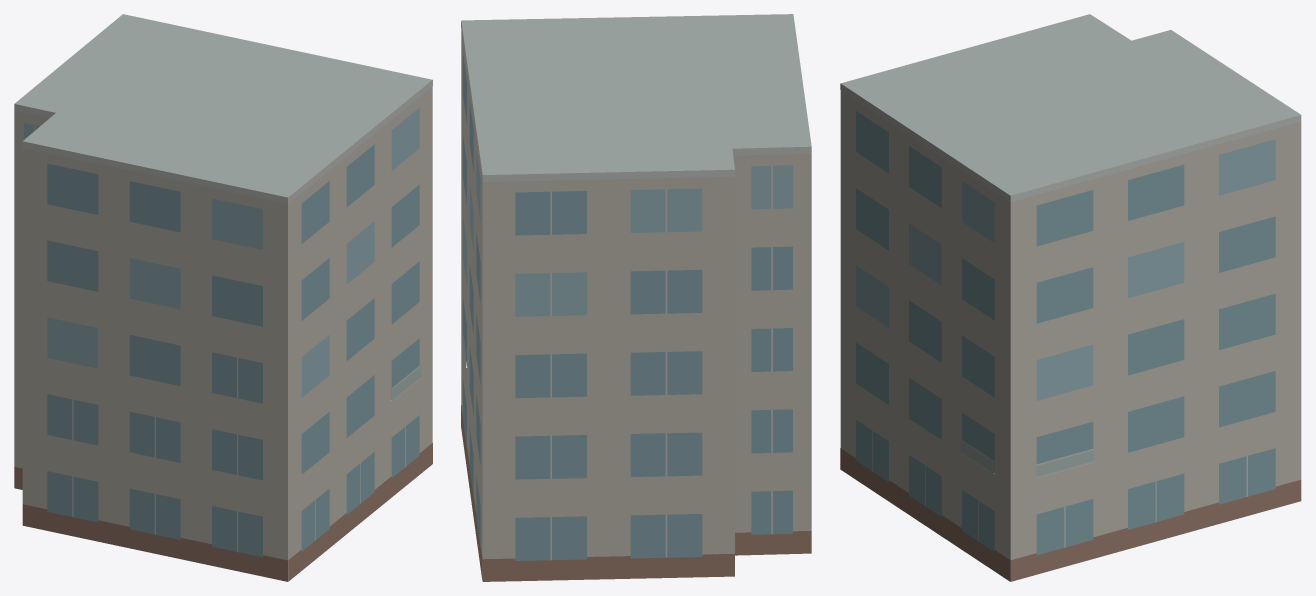
Rendered from survey-upis-32683049.glb.
3 views of the same model, side by side, from view 1: azimuth 30°, elevation 25°; view 2: azimuth 150°, elevation 25°; view 3: azimuth 270°, elevation 25° (orthographic). The views are drawn at different scales.
Visible parts, largest first — view 1: survey-upis-32683049.tmp; view 2: survey-upis-32683049.tmp; view 3: survey-upis-32683049.tmp.
Part boxes in pixels (bbox=[...]): survey-upis-32683049.tmp: bbox=[14, 14, 432, 581]; survey-upis-32683049.tmp: bbox=[461, 14, 811, 581]; survey-upis-32683049.tmp: bbox=[840, 14, 1301, 581].
Bounding box in the file's own units: 14.54 × 14.4 × 15.58.
